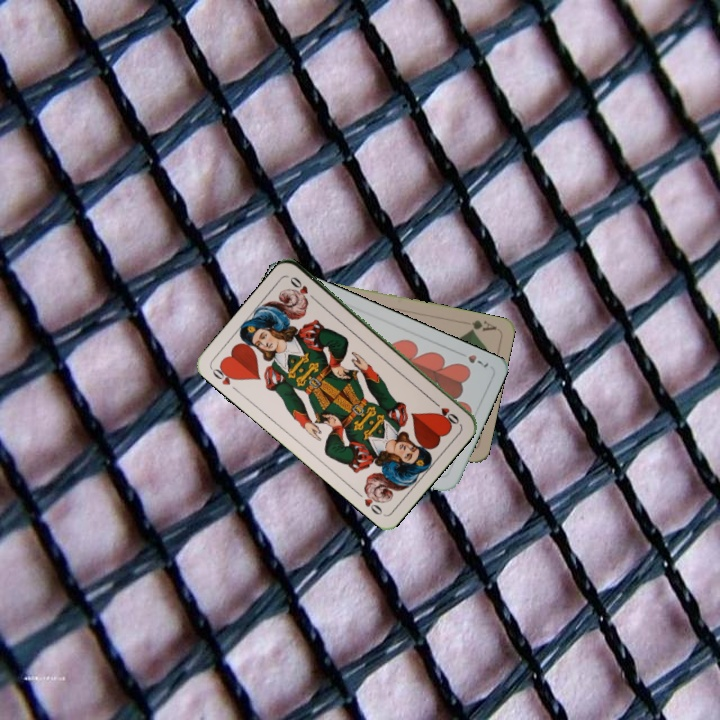GA: (466, 316, 499, 335)
H7: (454, 347, 491, 370)
HO: (208, 361, 241, 395), (428, 396, 462, 427)
